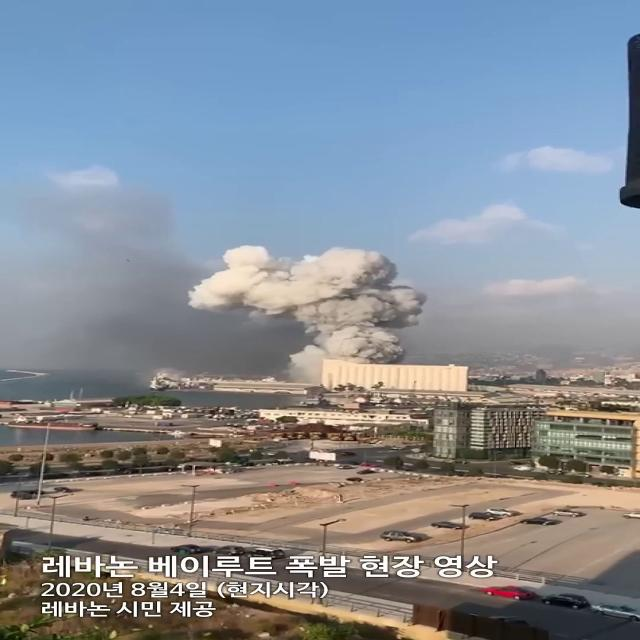explosion: (169, 210, 526, 422)
